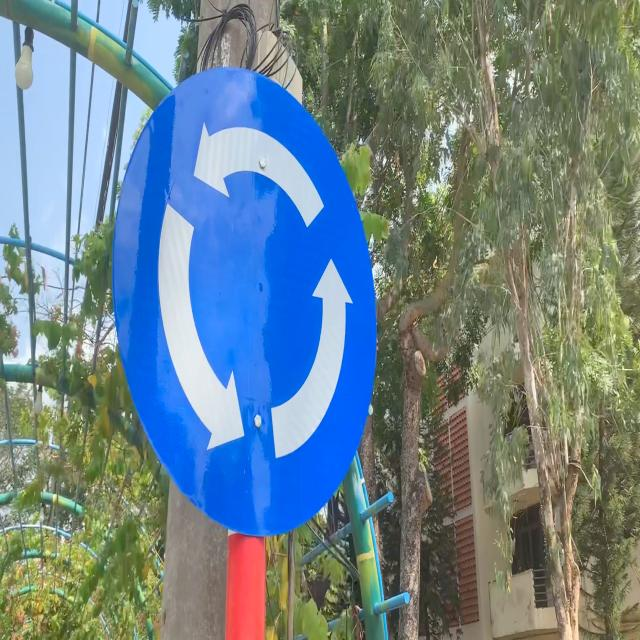Vong xuyen: (108, 52, 383, 557)
